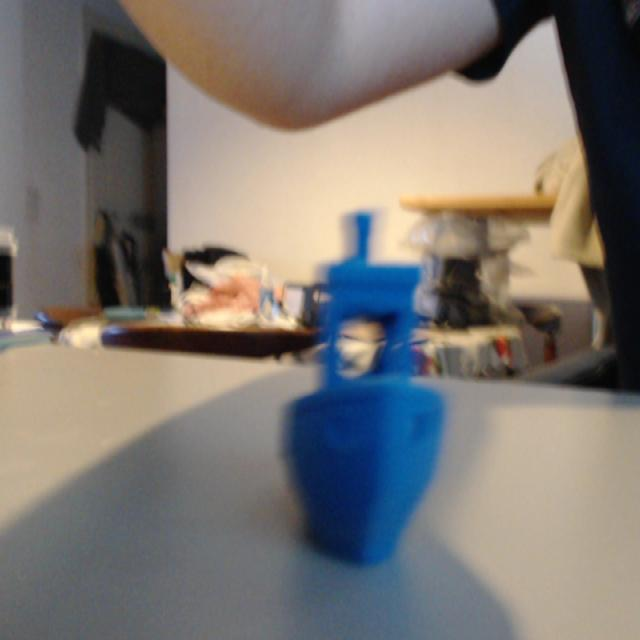benchy: (280, 206, 448, 566)
